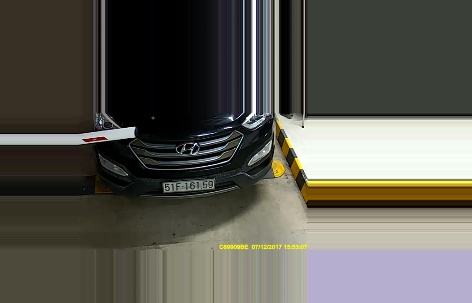plate: (163, 177, 215, 191)
